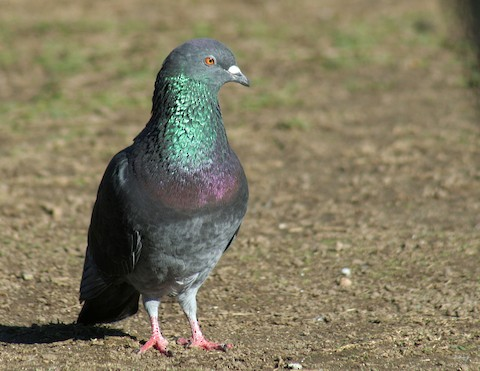pigeon: (73, 33, 261, 361)
